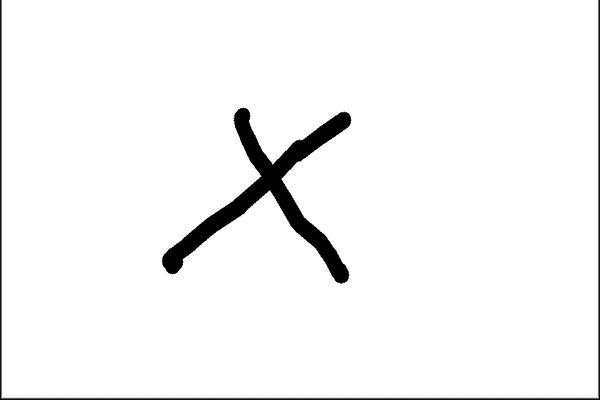X: (146, 86, 372, 298)
